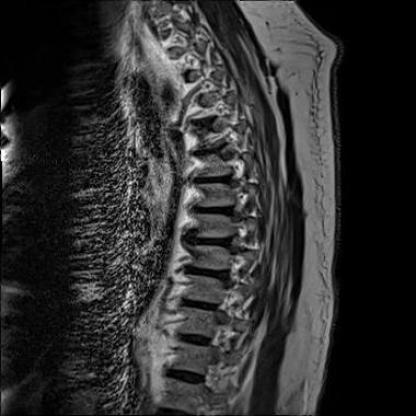Osteophytesrotation: (136, 1, 240, 415)
